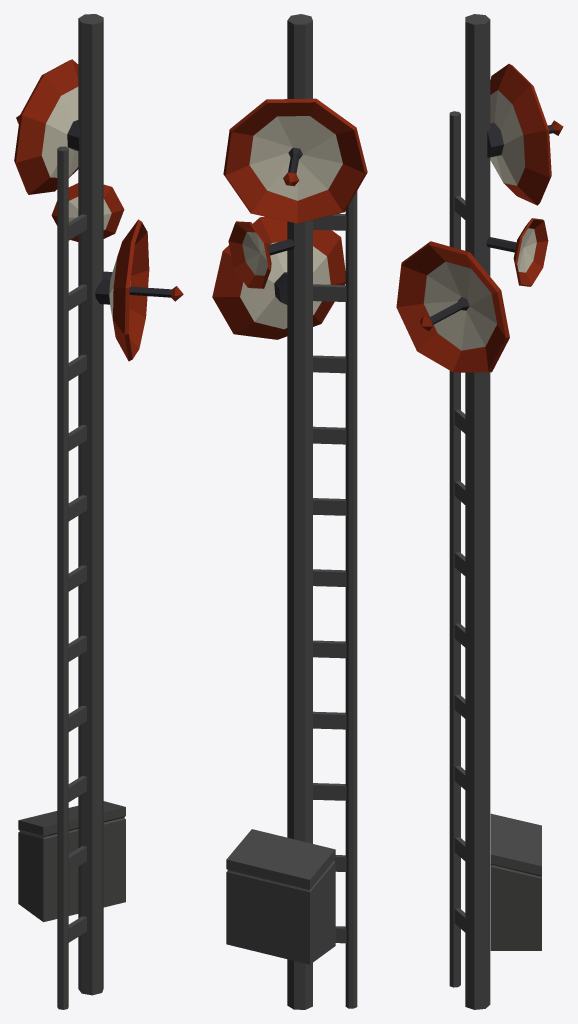
File: LPWarPack_SateliteMastA.fbx
The picture shows the model from 3 angles, left to right: view 1: azimuth 30°, elevation 25°; view 2: azimuth 150°, elevation 25°; view 3: azimuth 270°, elevation 25°; orthographic projection.
Parts seen in each view (by area): view 1: SateliteMastA; view 2: SateliteMastA; view 3: SateliteMastA.
Boxes of the visible parts, left/top/right/bottom form: SateliteMastA: left=14, top=14, right=183, bottom=1009; SateliteMastA: left=212, top=14, right=367, bottom=1009; SateliteMastA: left=396, top=14, right=563, bottom=1009.
Bounding box in the file's own units: 101 × 655 × 101.
